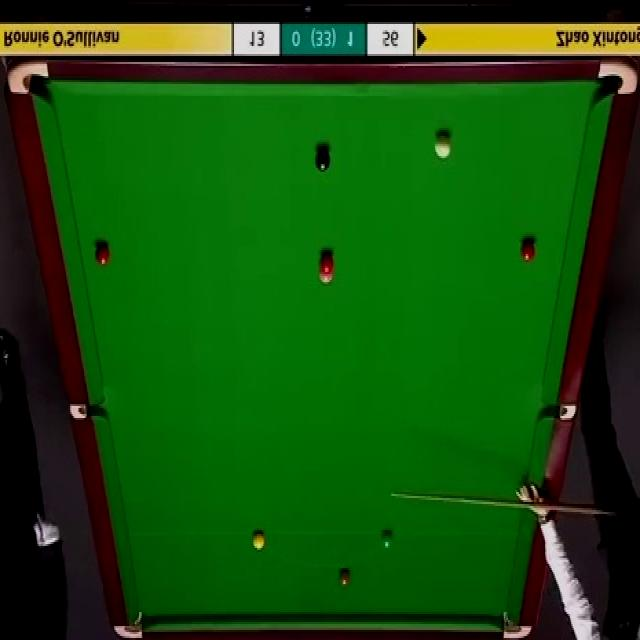black-ball: (314, 146, 332, 172)
brown-ball: (338, 568, 351, 588)
green-ball: (380, 530, 393, 551)
pink-ball: (318, 270, 334, 284)
red-ball: (95, 242, 111, 268), (520, 240, 536, 265), (318, 252, 335, 273)
white-ball: (434, 133, 451, 158)
yellow-ball: (254, 529, 267, 549)
